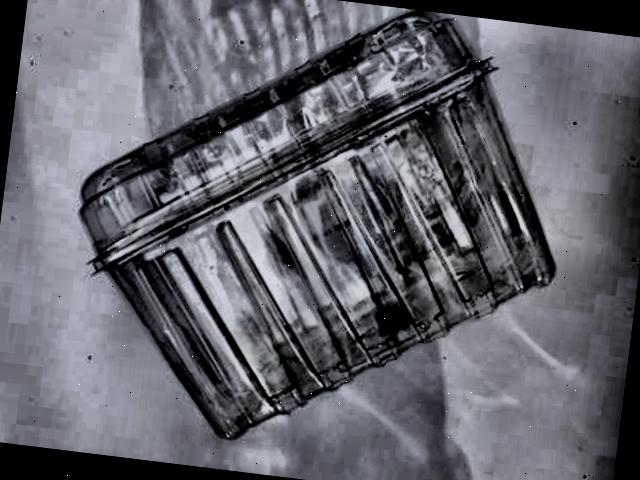Plastic: (34, 0, 613, 480)
